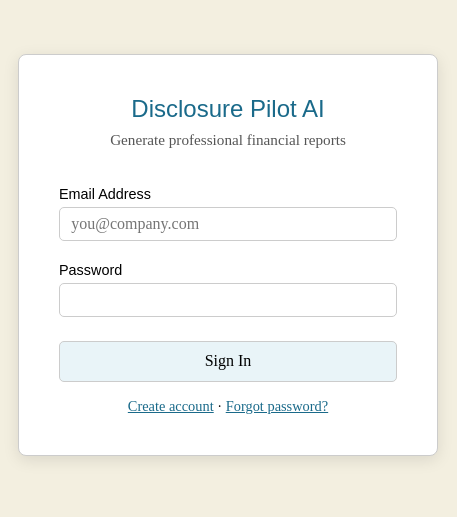
Scenario: LoginPage › shows toggle to sign-up mode
The width and height of the screenshot is (457, 517).
Click the link "Create account" at (171, 406), box left=128, top=398, right=214, bottom=414
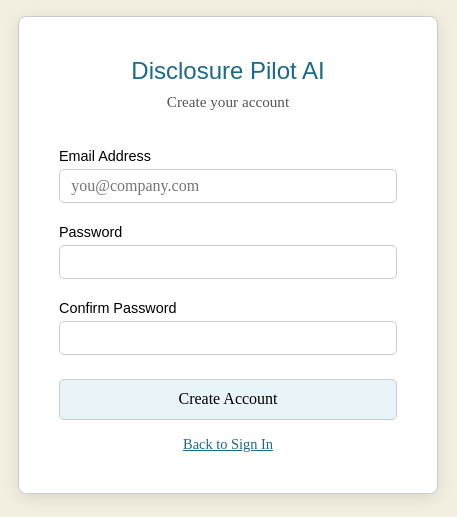
Now the button "Create Account" is shown, box left=59, top=379, right=397, bottom=420
